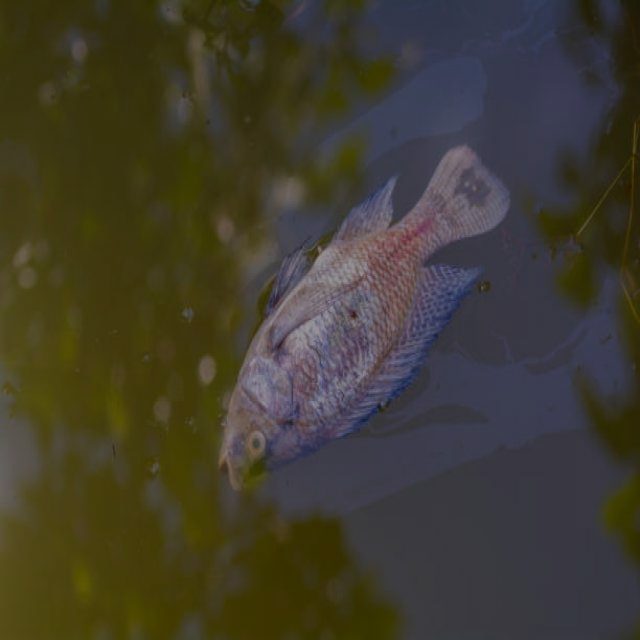EUS Disease: (210, 148, 541, 490)
